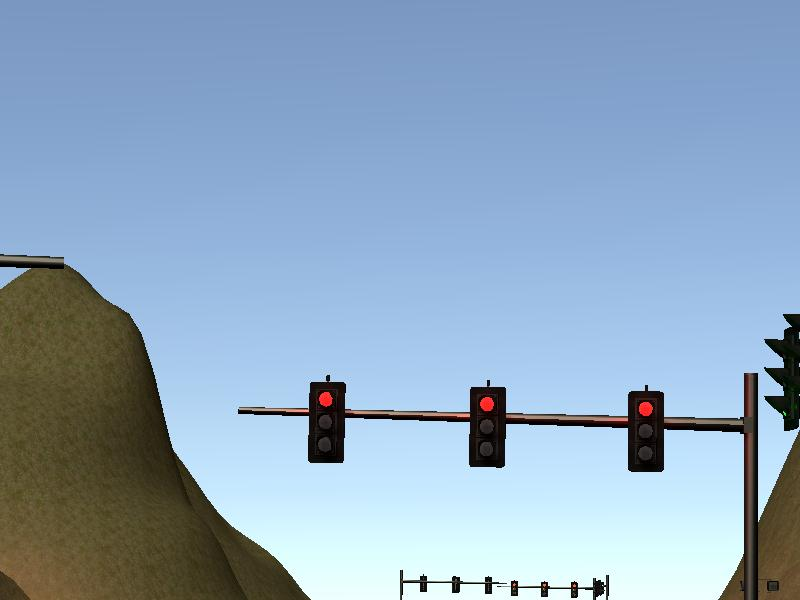Red: (471, 385, 506, 468), (310, 381, 345, 462), (629, 391, 662, 471)
